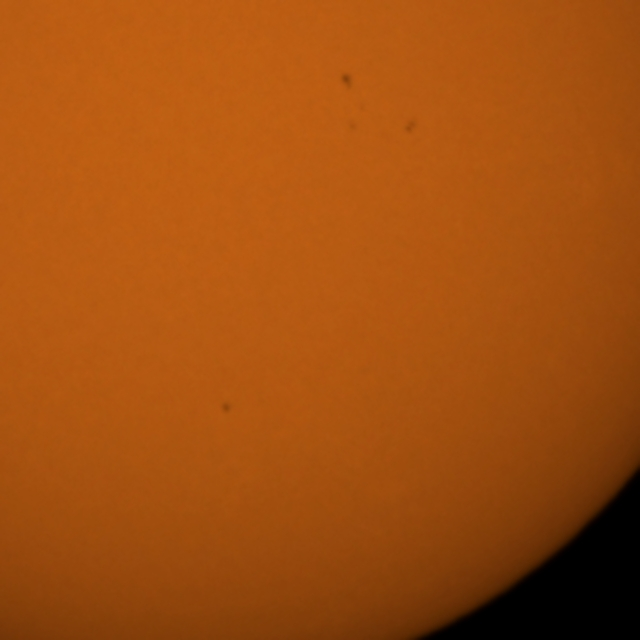sunspot: (338, 70, 355, 93), (218, 398, 235, 418), (402, 116, 418, 137)
